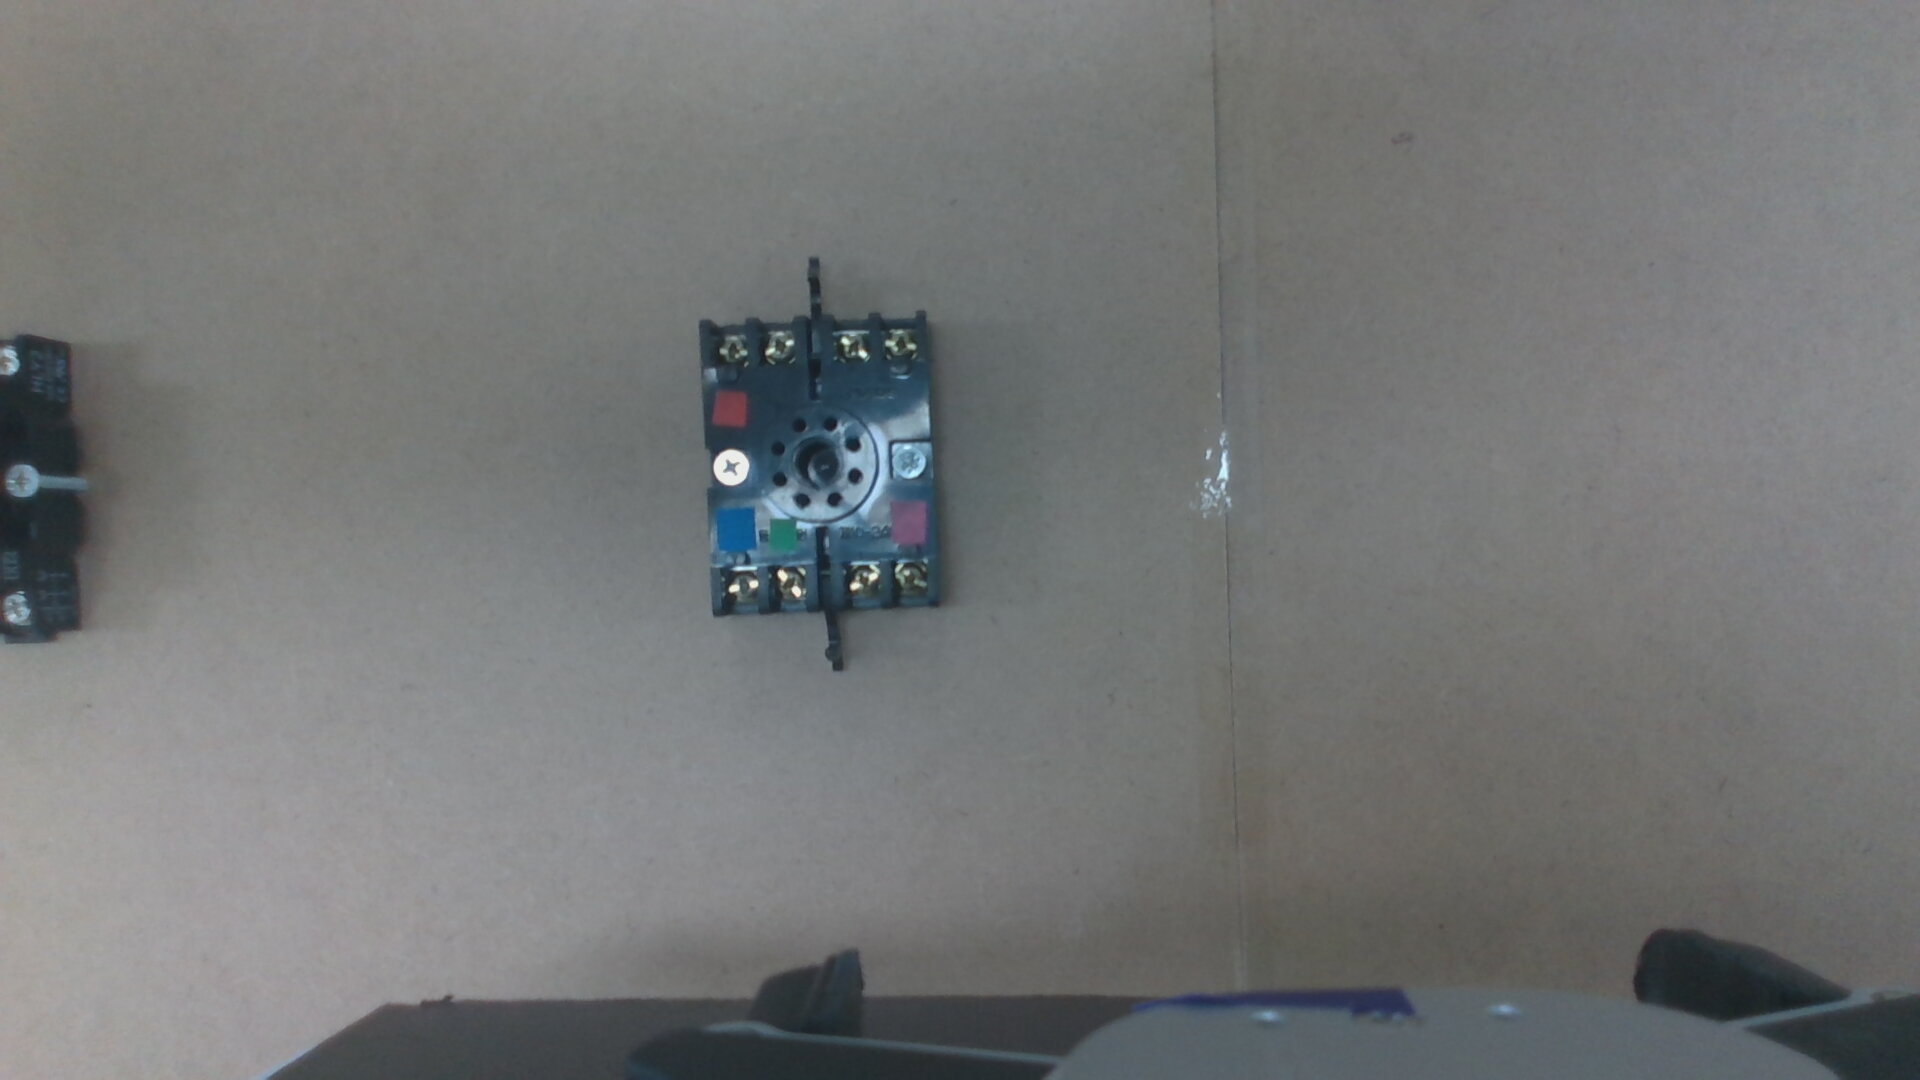timer 2: (894, 559, 927, 593)
timer 6: (713, 332, 745, 363)
timer 7: (723, 571, 757, 603)
timer 8: (771, 568, 804, 603)
